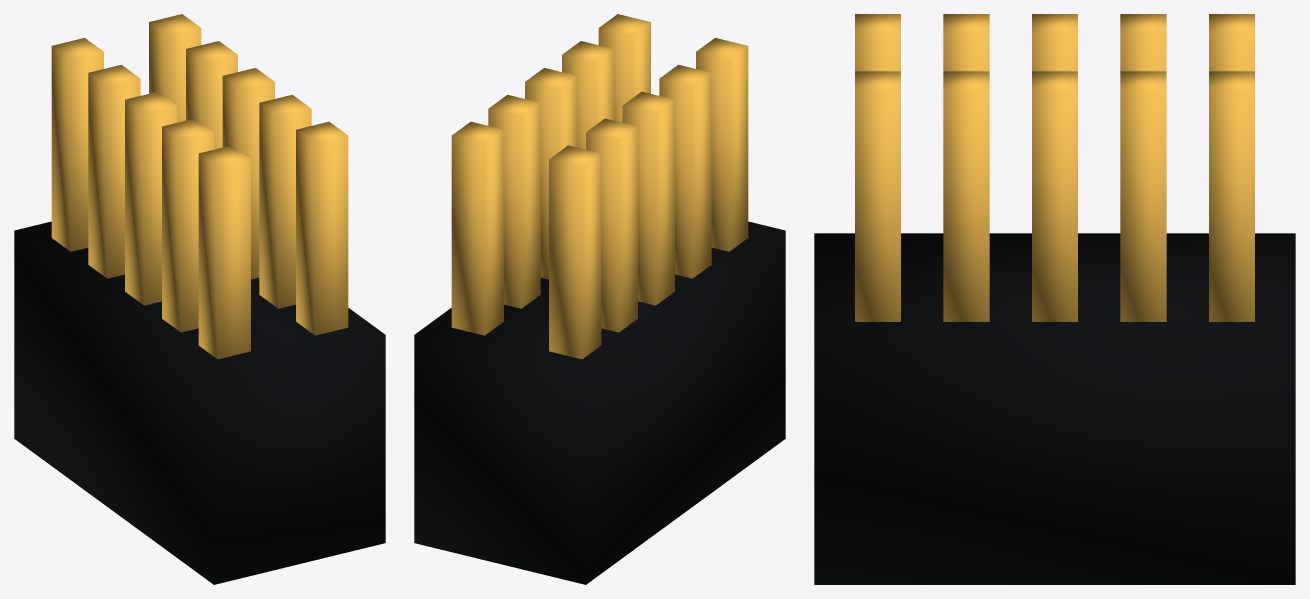
File: 42_L94_J2_DebugProgrammingHeader.fbx
3 renders of one model, left to right at view 1: azimuth 30°, elevation 25°; view 2: azimuth 150°, elevation 25°; view 3: azimuth 270°, elevation 25°, orthographic. The views are drawn at different scales.
Visible parts, largest first — view 1: L94_DebugProgrammingHeader_Part_0000, L94_DebugProgrammingHeader_Part_0001; view 2: L94_DebugProgrammingHeader_Part_0000, L94_DebugProgrammingHeader_Part_0001; view 3: L94_DebugProgrammingHeader_Part_0000, L94_DebugProgrammingHeader_Part_0001.
Boxes of the visible parts, <box> form: L94_DebugProgrammingHeader_Part_0000: <box>14,221,385,584</box>; L94_DebugProgrammingHeader_Part_0001: <box>51,14,348,359</box>; L94_DebugProgrammingHeader_Part_0000: <box>414,221,785,584</box>; L94_DebugProgrammingHeader_Part_0001: <box>451,14,748,359</box>; L94_DebugProgrammingHeader_Part_0000: <box>814,233,1295,584</box>; L94_DebugProgrammingHeader_Part_0001: <box>855,14,1254,321</box>.
Bounding box in the file's own units: 7.25 × 16.15 × 14.62.
